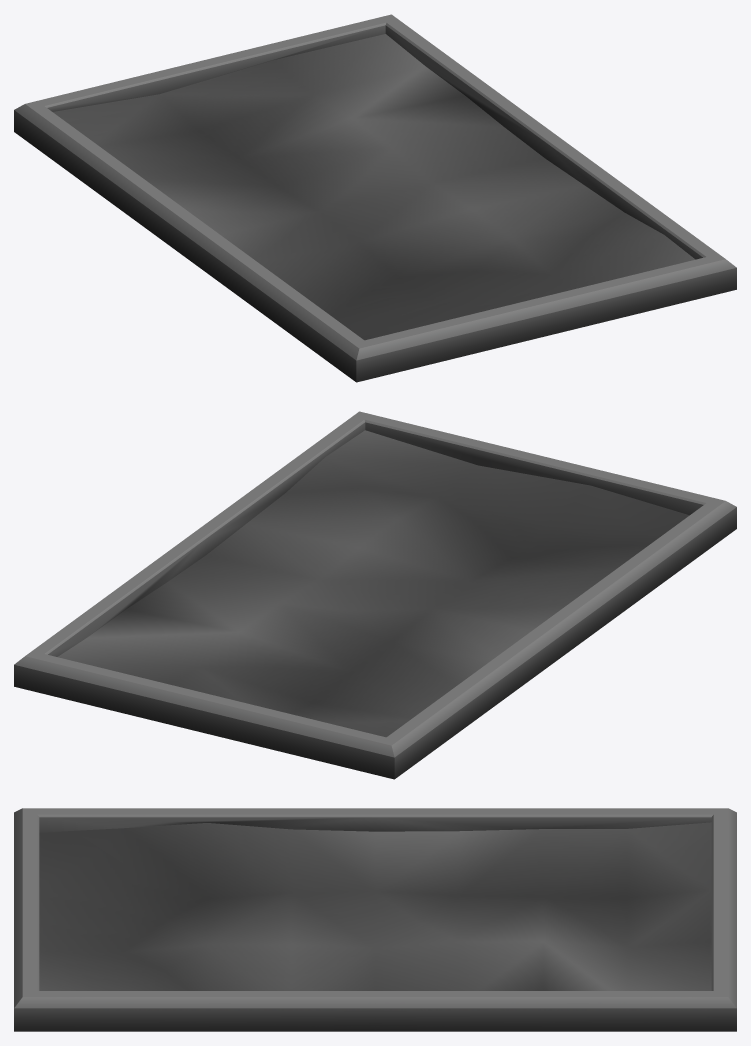
The model's file is FarmPlotSmall3_MESH_01.fbx.
3 views of the same model, one above another, from view 1: azimuth 30°, elevation 25°; view 2: azimuth 150°, elevation 25°; view 3: azimuth 270°, elevation 25° (orthographic). The views are drawn at different scales.
Parts seen in each view (by area): view 1: FarmPlotSmall3_MESH_01; view 2: FarmPlotSmall3_MESH_01; view 3: FarmPlotSmall3_MESH_01.
Boxes of the visible parts, box(x1,y1,x2,y2) form: FarmPlotSmall3_MESH_01: box(14, 14, 736, 382); FarmPlotSmall3_MESH_01: box(14, 411, 736, 779); FarmPlotSmall3_MESH_01: box(14, 808, 736, 1031).
Bounding box in the file's own units: 786 × 57.78 × 1224.
